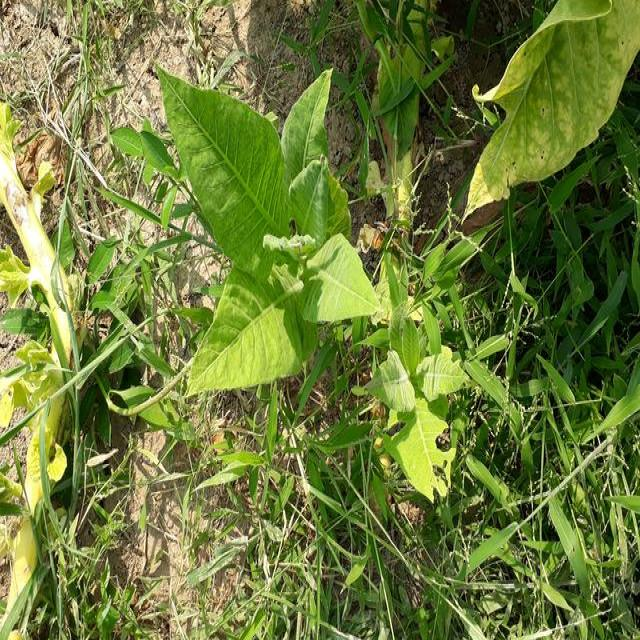crop: (153, 58, 387, 380), (487, 0, 631, 197)
